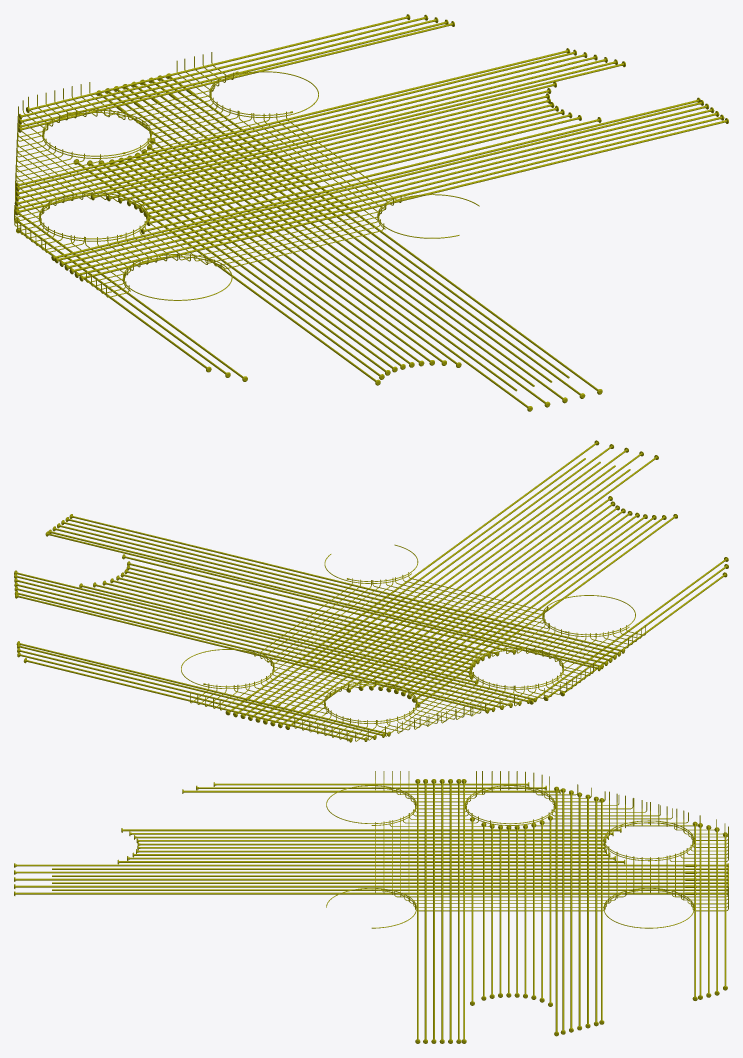
Rendered from T1Block03_OneQuarter_BotSlabRebar.fbx.
3 renders of one model, top to bottom at view 1: azimuth 30°, elevation 25°; view 2: azimuth 150°, elevation 25°; view 3: azimuth 270°, elevation 25°, orthographic. The views are drawn at different scales.
Visible parts, largest first — view 1: default; view 2: default; view 3: default.
Part boxes in pixels (x1,y1,x2,y2): default: [14, 14, 728, 411]; default: [14, 440, 728, 742]; default: [14, 771, 728, 1043].
Bounding box in the file's own units: 22260 × 546 × 25760.
